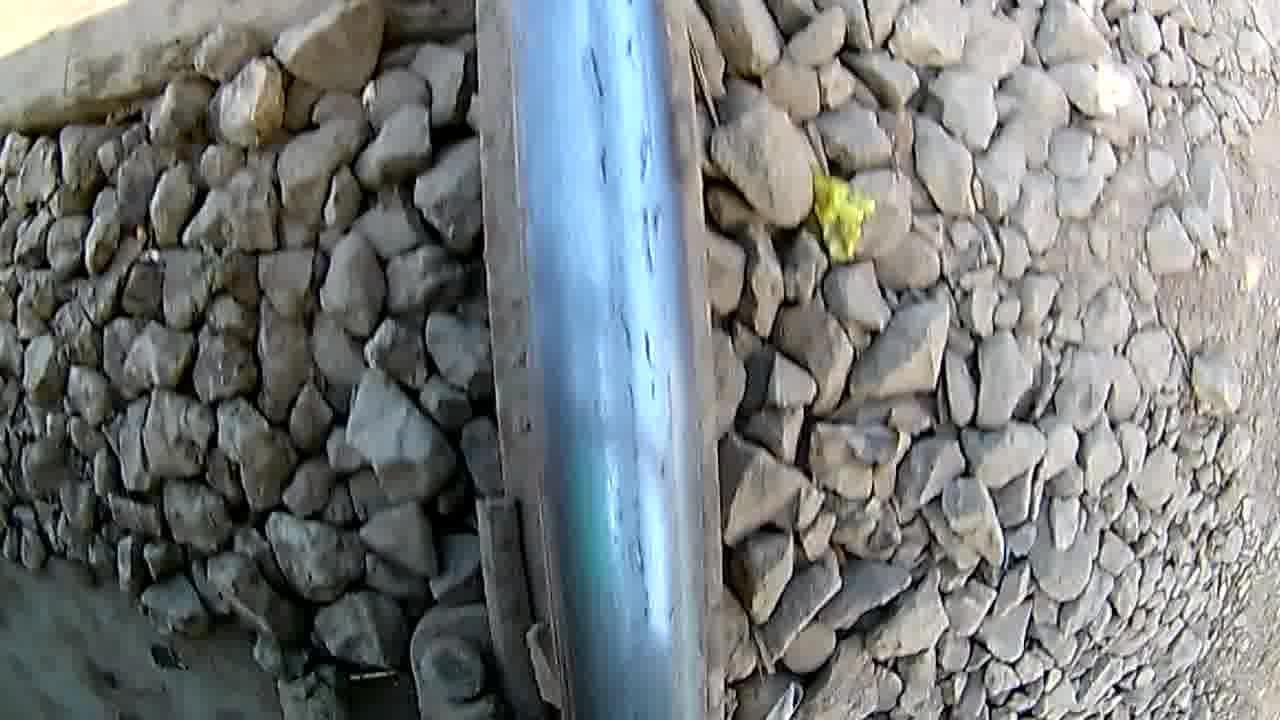crack: (580, 30, 670, 609)
